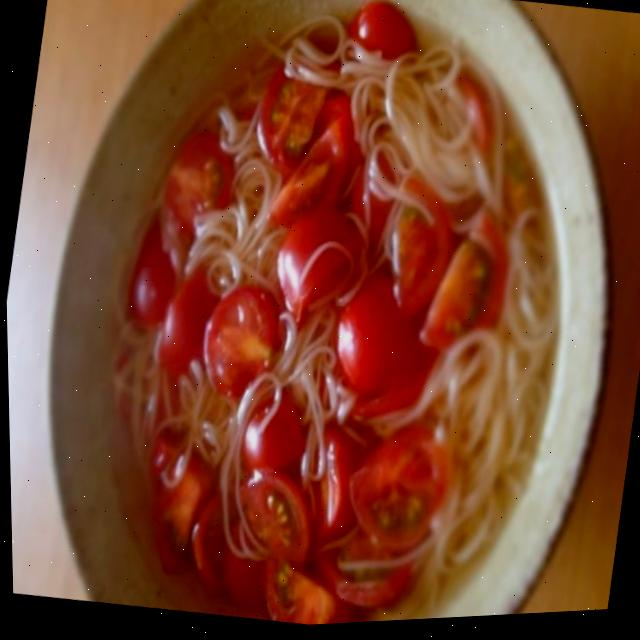面条主食: (29, 0, 639, 639)
